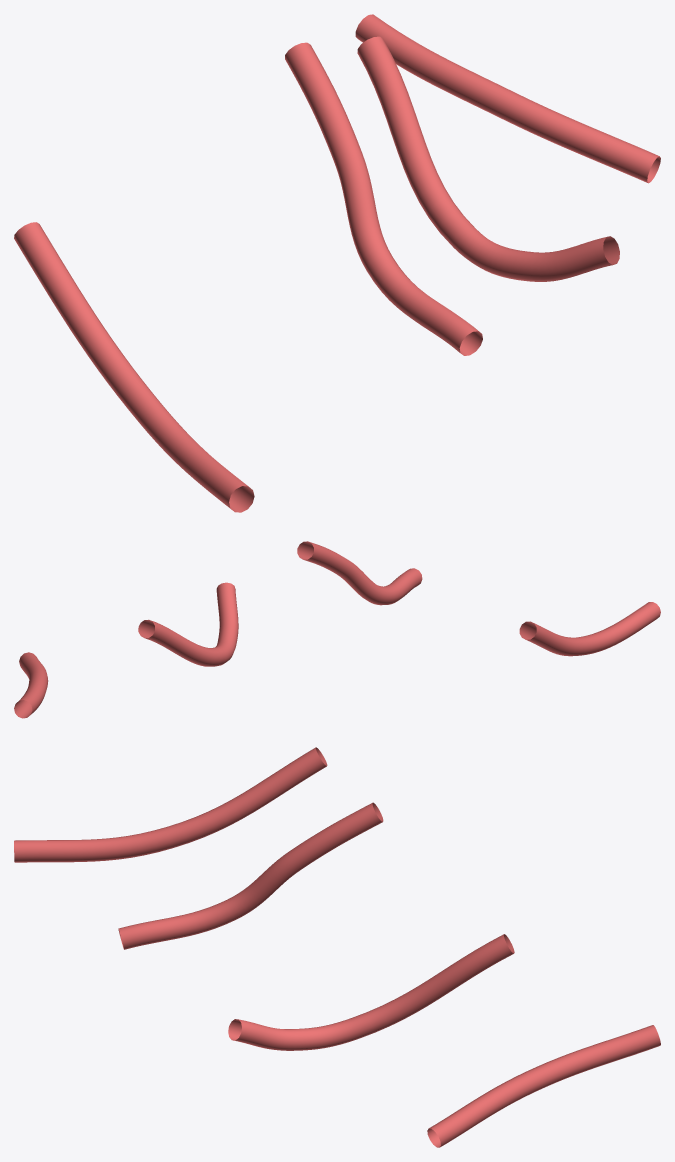
Rendered from Common_plantar_digital_arteries.l_BezierCurve.229.glb.
3 renders of one model, top to bottom at view 1: azimuth 30°, elevation 25°; view 2: azimuth 150°, elevation 25°; view 3: azimuth 270°, elevation 25°, orthographic. The views are drawn at different scales.
Visible parts, largest first — view 1: Common_plantar_digital_arteries.l_BezierCurve.229; view 2: Common_plantar_digital_arteries.l_BezierCurve.229; view 3: Common_plantar_digital_arteries.l_BezierCurve.229.
Part boxes in pixels (x1,y1,x2,y2): Common_plantar_digital_arteries.l_BezierCurve.229: (14,14,660,512); Common_plantar_digital_arteries.l_BezierCurve.229: (14,541,660,718); Common_plantar_digital_arteries.l_BezierCurve.229: (14,747,660,1147).
Bounding box in the file's own units: 0.0397 × 0.0139 × 0.0408.
